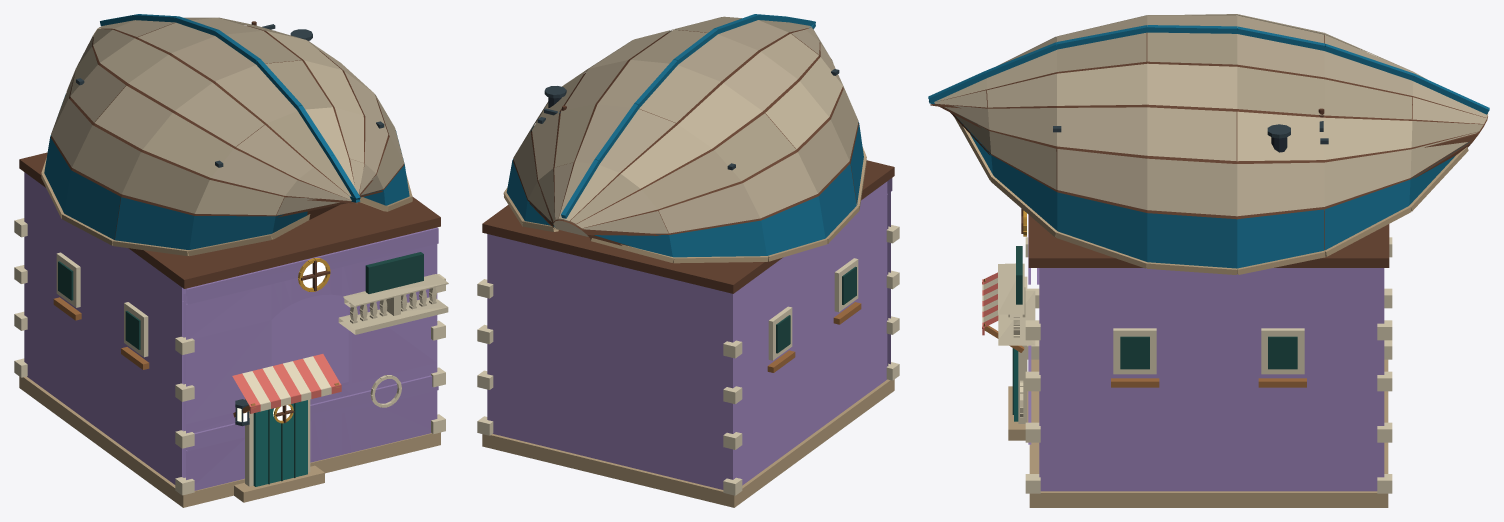
File: net-loft-large-lilac.glb
3 renders of one model, left to right at view 1: azimuth 30°, elevation 25°; view 2: azimuth 150°, elevation 25°; view 3: azimuth 270°, elevation 25°, orthographic. The views are drawn at different scales.
Visible parts, largest first — view 1: net-loft-large-lilac; view 2: net-loft-large-lilac; view 3: net-loft-large-lilac.
Part boxes in pixels (bbox=[...]): net-loft-large-lilac: bbox=[14, 14, 448, 507]; net-loft-large-lilac: bbox=[477, 14, 899, 507]; net-loft-large-lilac: bbox=[928, 14, 1489, 507].
Size of the model in its own units: 5.71 by 6.62 by 8.15.
